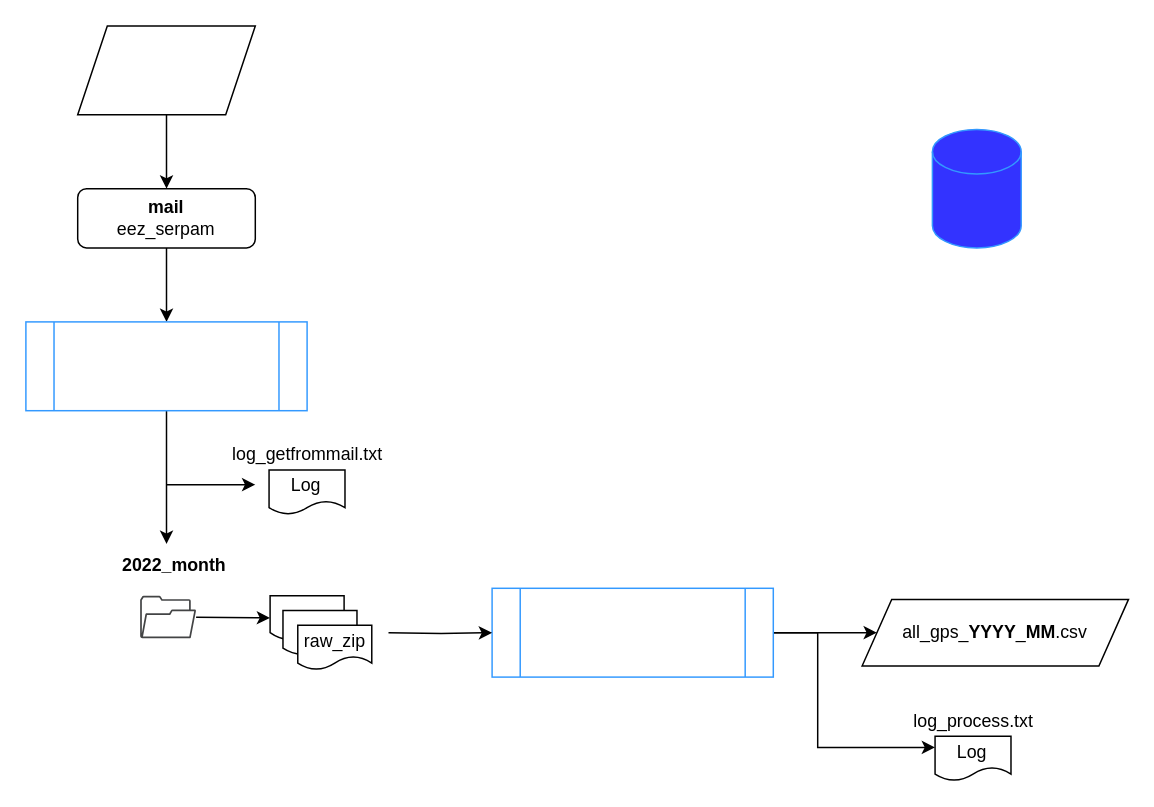
The diagram is 1154 pixels wide and 807 high, and some of its shapes have lost their labels. Each missing label, with the centre of its shape:
"01_getGPS_from_mail.R" goes at [165,365].
"02_getGPS_from_mail.R" goes at [632,632].
"GPS_raw data DigitAnimal" goes at [165,69].
